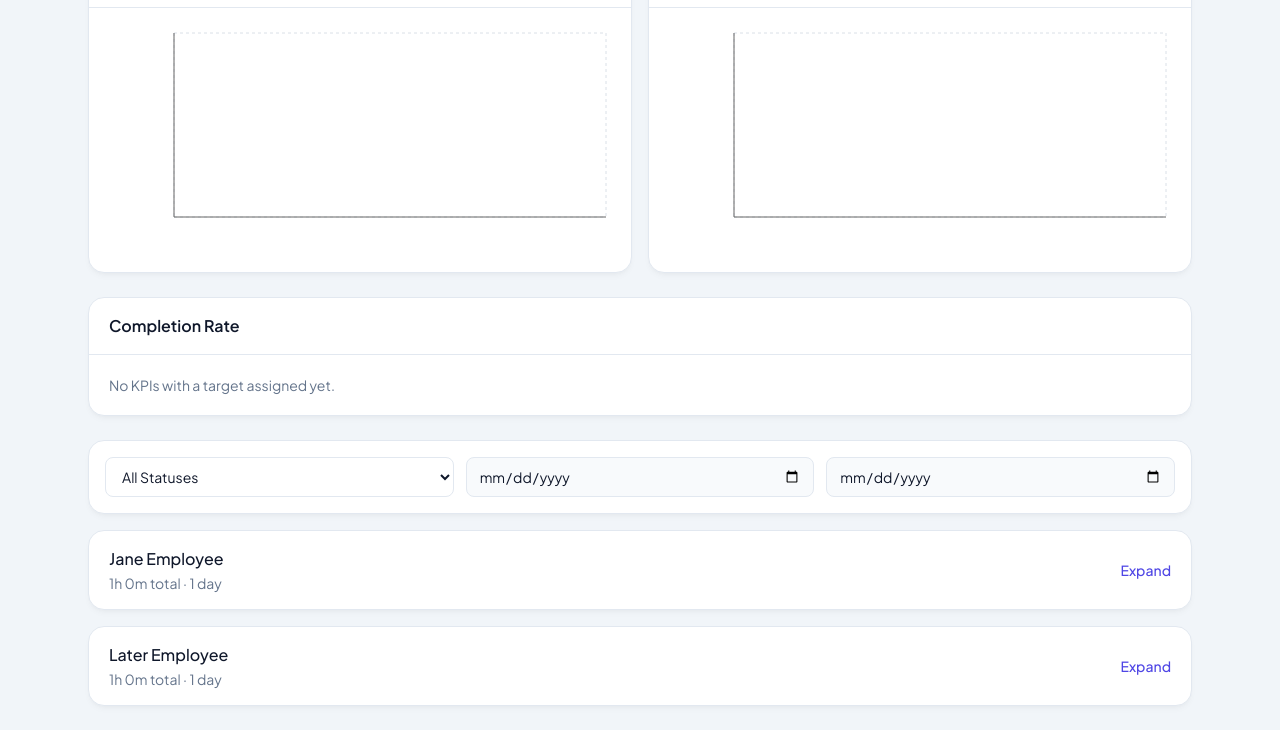
Scenario: TeamTimesheetsPage › filters grouped timesheets by date range
(page scrolled)
expect the text "Jane Employee" is shown: met, box [109,547,224,571]
Type "2026-01-20" into the date field named "From date". click: (640, 477)
box: [466,457,814,497]
(page scrolled)
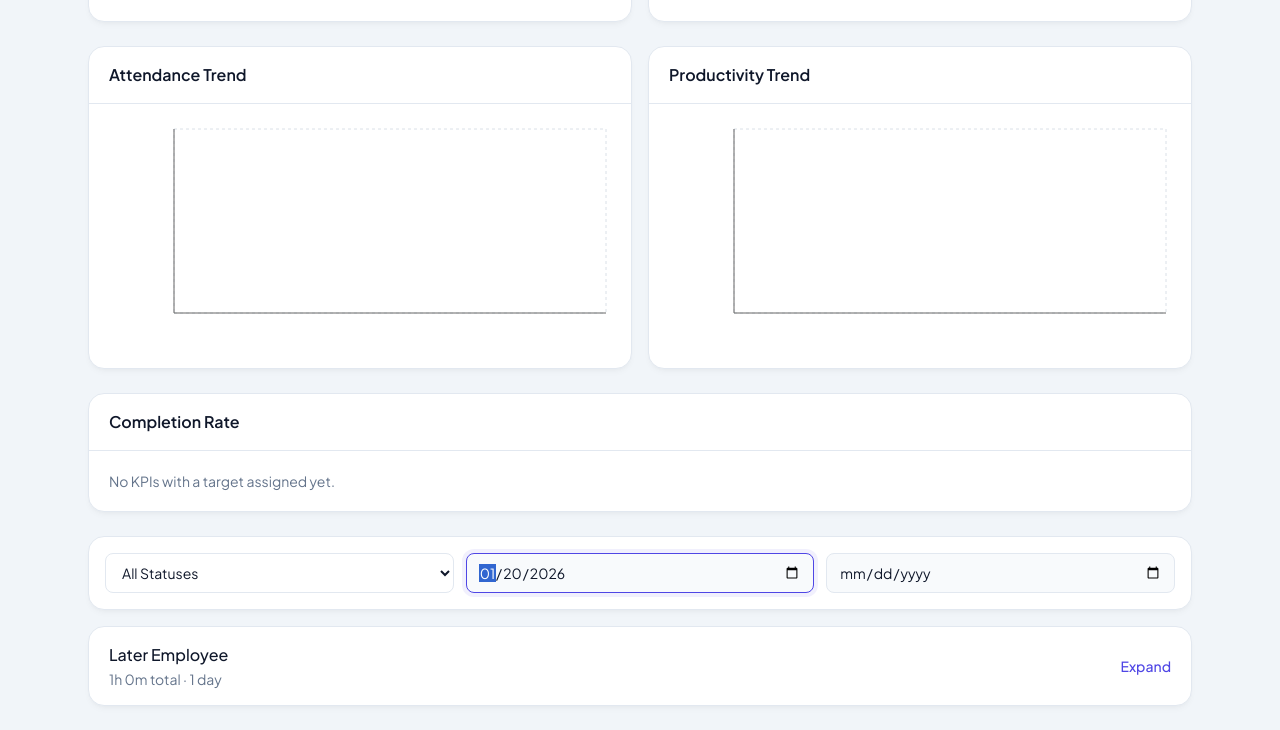
expect the text "Later Employee" is shown: met, box [109,643,228,667]
expect the button "Jane Employee" is gone: met
